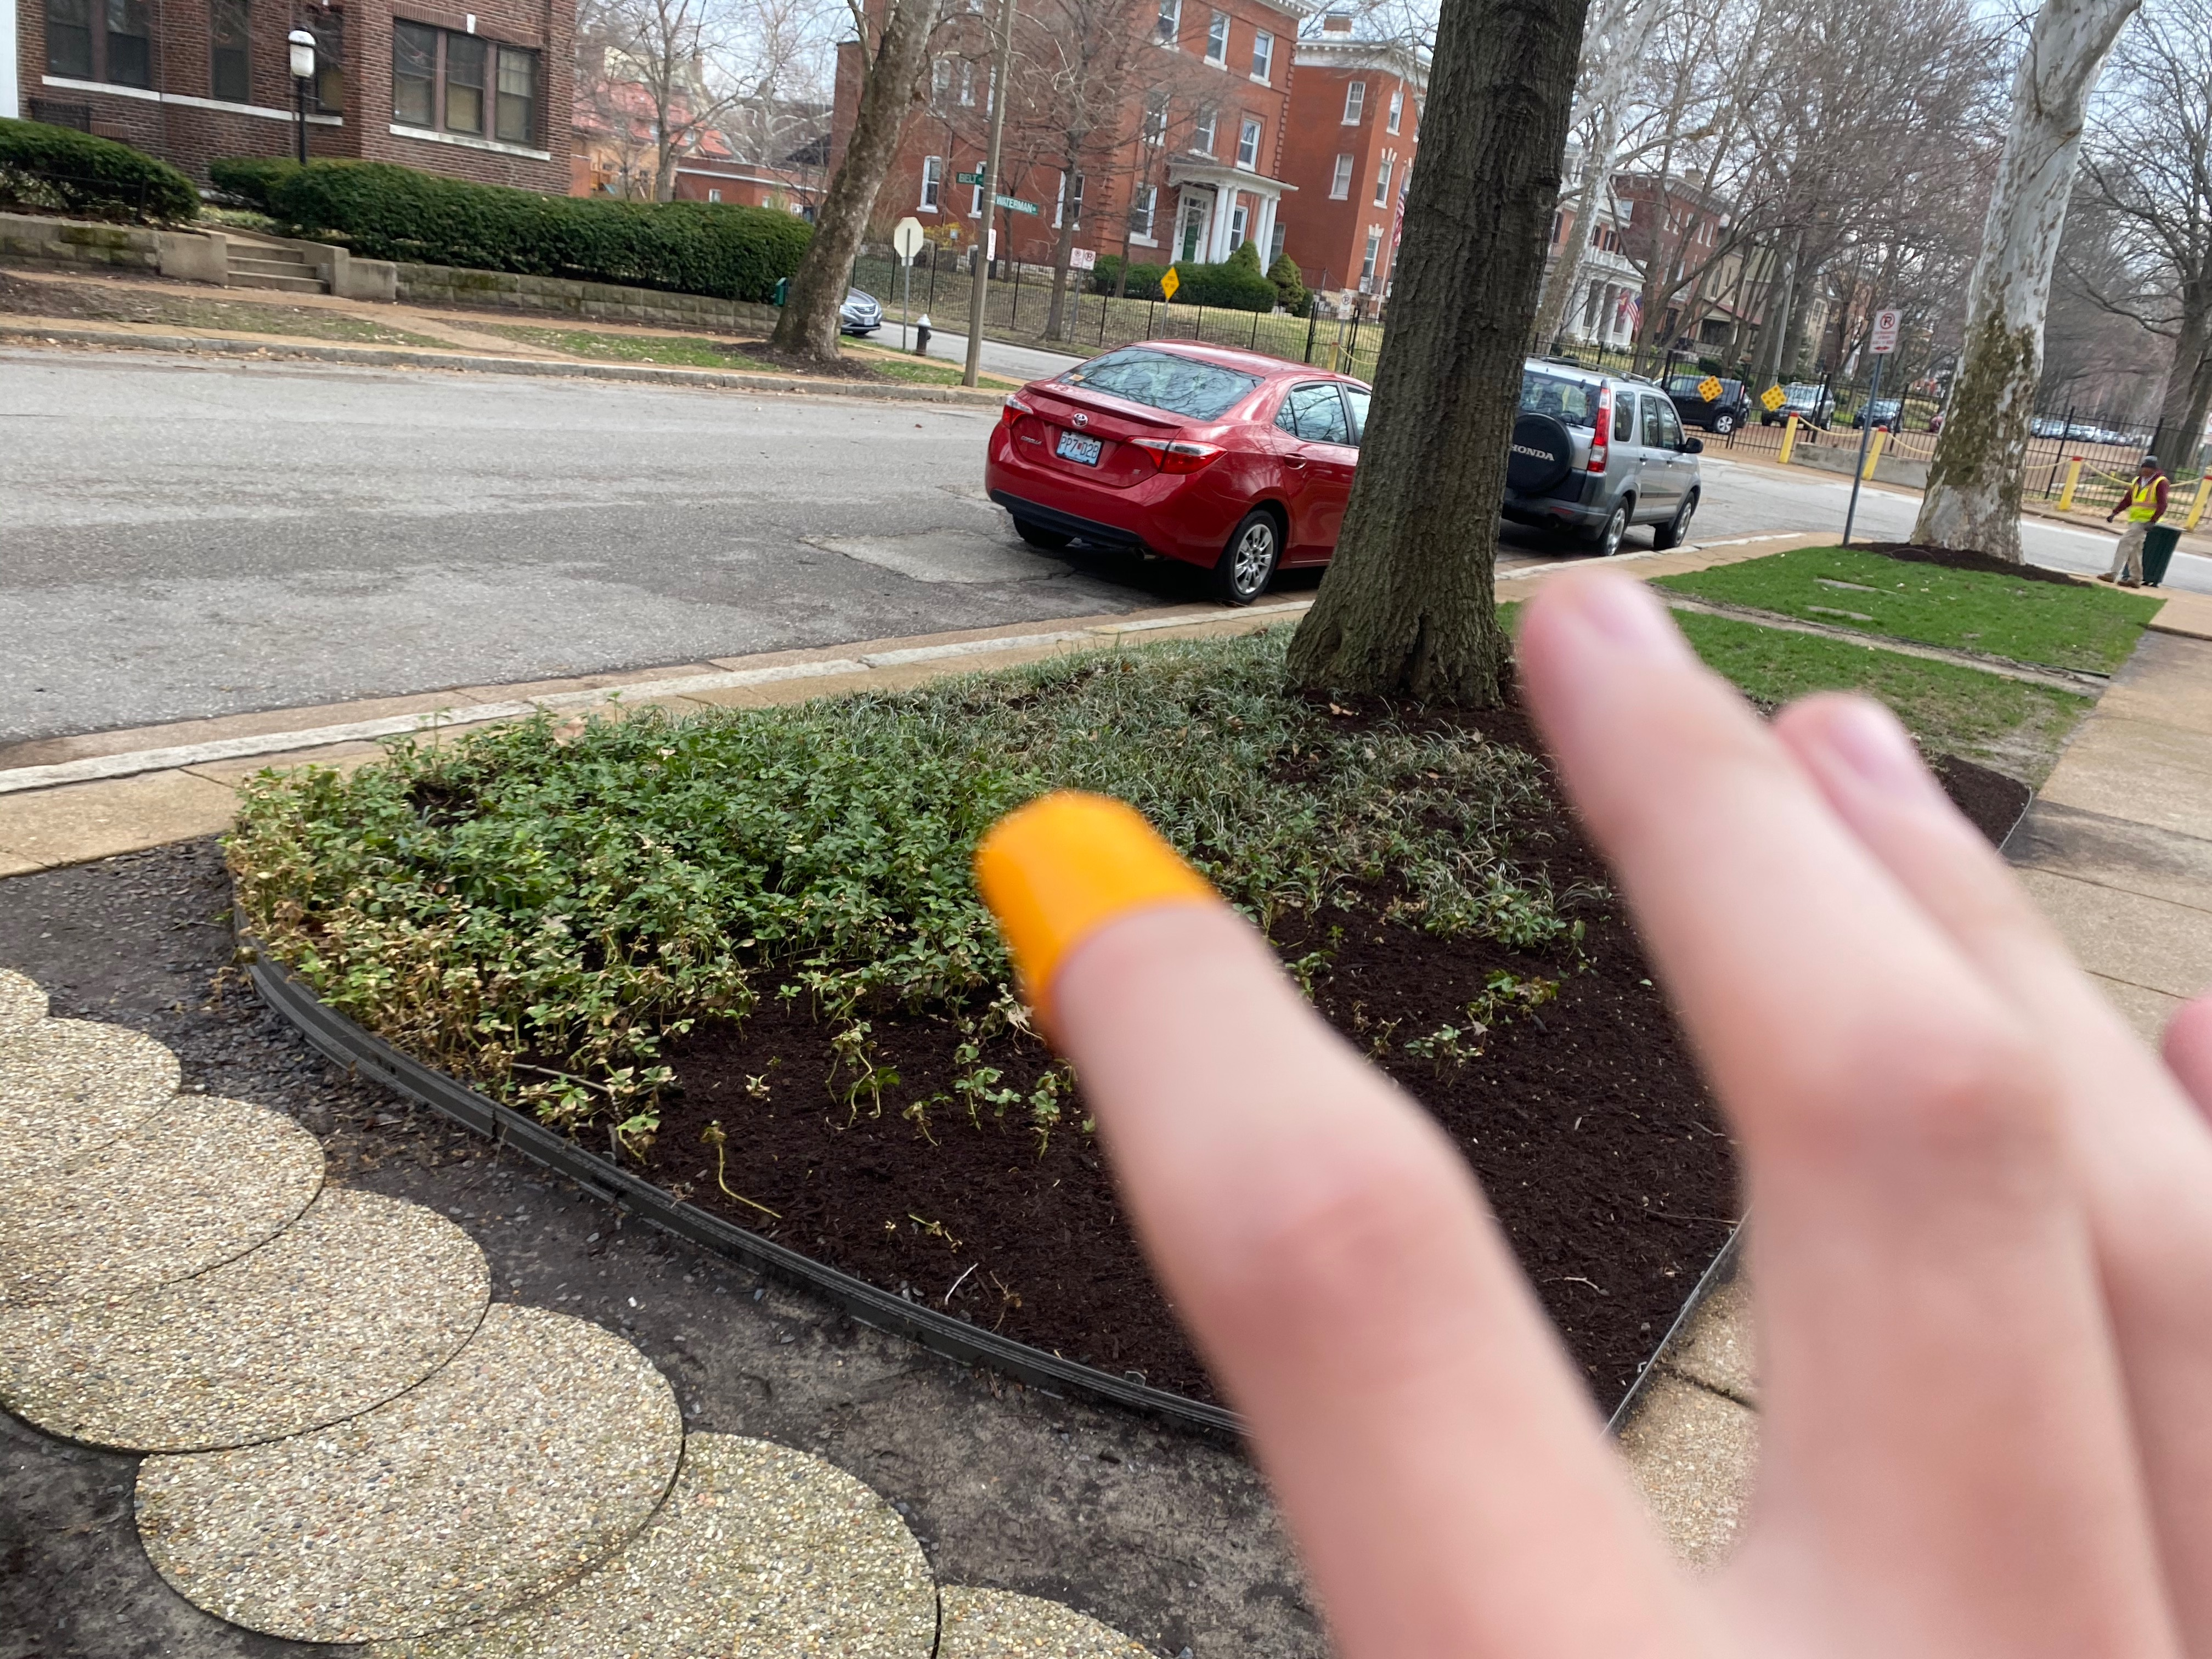fingertip: (930, 770, 1325, 1042)
